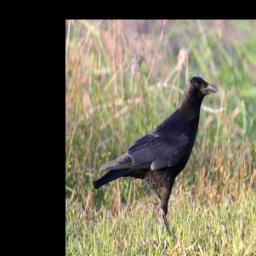Crow: (91, 74, 219, 242)
